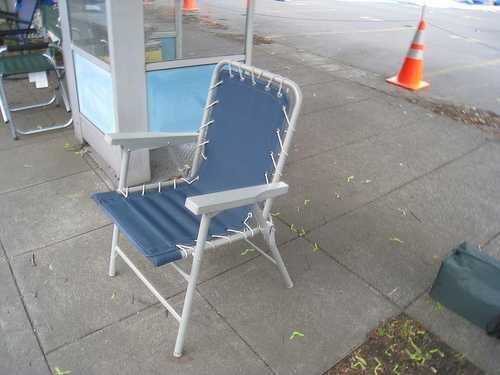obstacle: (94, 60, 301, 356), (432, 243, 499, 337)
